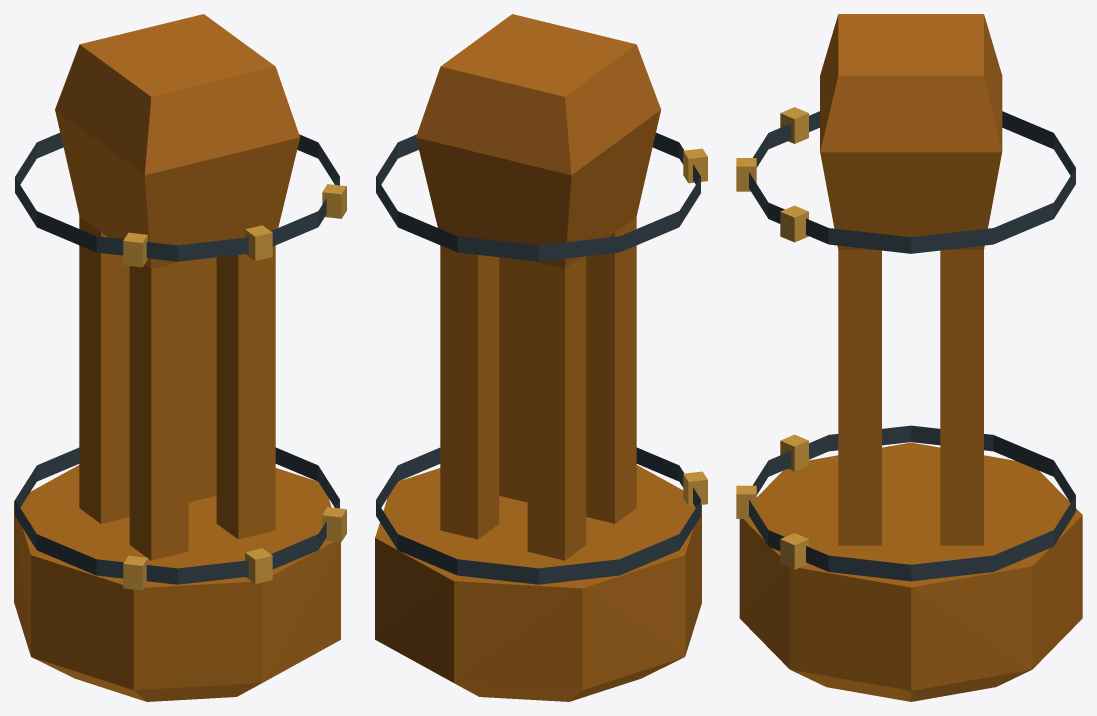
File: signal-buoy-butter.glb
3 views of the same model, side by side, from view 1: azimuth 30°, elevation 25°; view 2: azimuth 150°, elevation 25°; view 3: azimuth 270°, elevation 25° (orthographic).
Parts seen in each view (by area): view 1: signal-buoy-butter; view 2: signal-buoy-butter; view 3: signal-buoy-butter.
Part boxes in pixels (x1=…): signal-buoy-butter: x1=14, y1=14, x2=346, y2=701; signal-buoy-butter: x1=375, y1=14, x2=707, y2=701; signal-buoy-butter: x1=736, y1=14, x2=1082, y2=701.
Size of the model in its own units: 0.79 by 1.54 by 0.7977.
